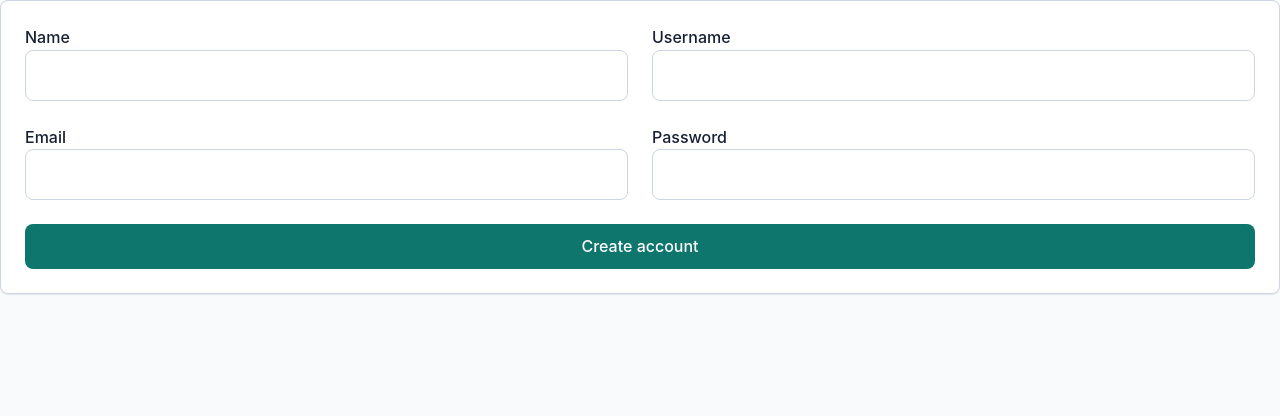
Scenario: RegistrationForm › displays server-side validation field errors
Type "Ada Lovelace" into the field labelled "Name" at (326, 75), box [25, 50, 628, 101]
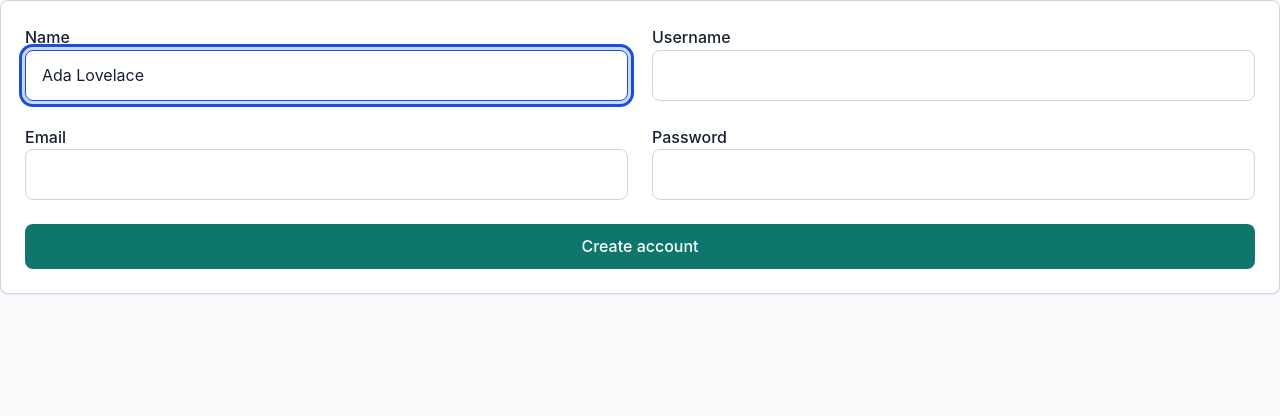
Type "ada" into the field labelled "Username" at (954, 75), box [652, 50, 1255, 101]
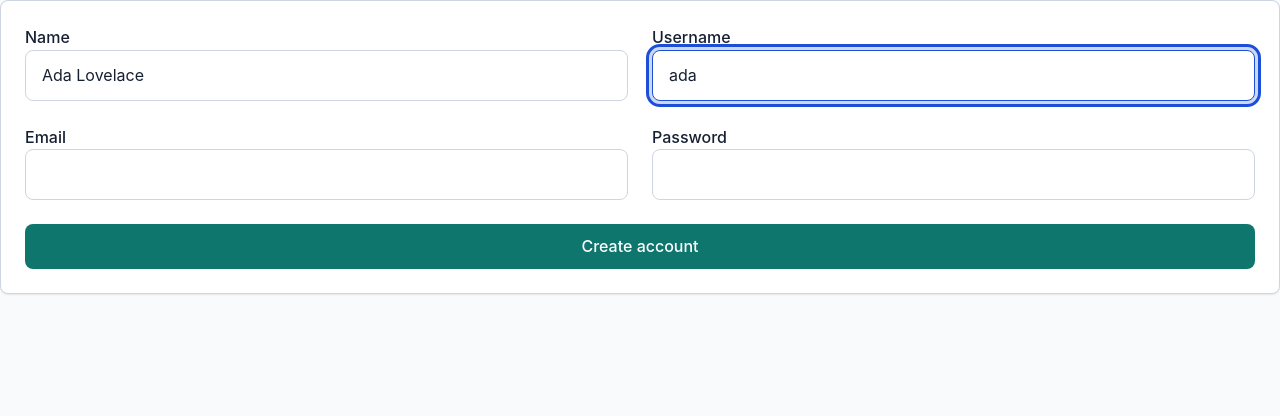
Type "ada@example.com" into the field labelled "Email" at (326, 175), box [25, 149, 628, 200]
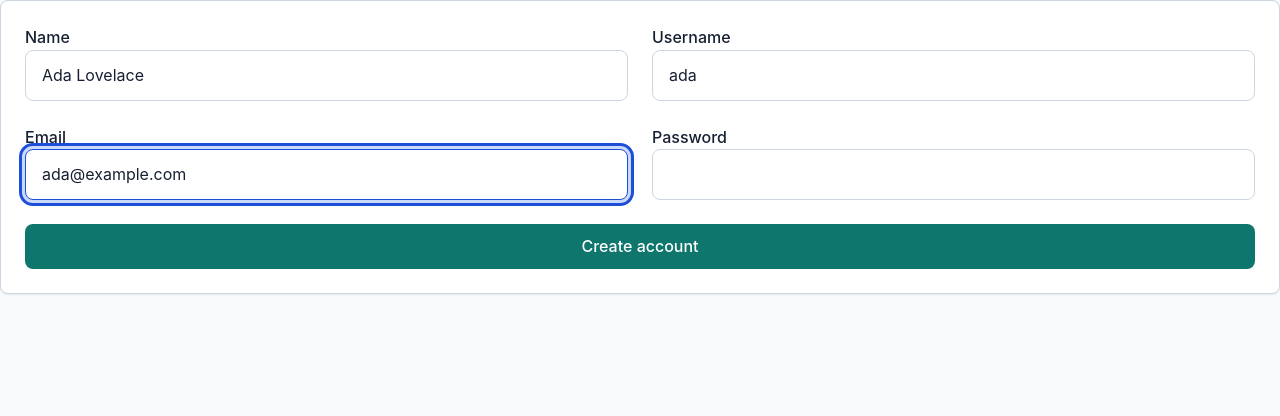
Type "correct-horse-battery-staple" into the password field labelled "Password" at (954, 175), box [652, 149, 1255, 200]
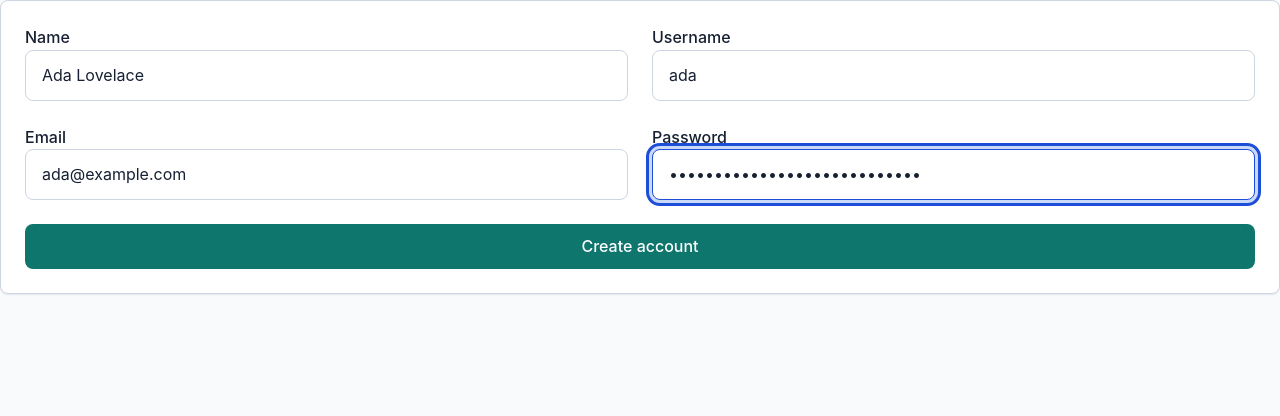
Click the button "Create account" at (640, 246), box [25, 224, 1255, 269]
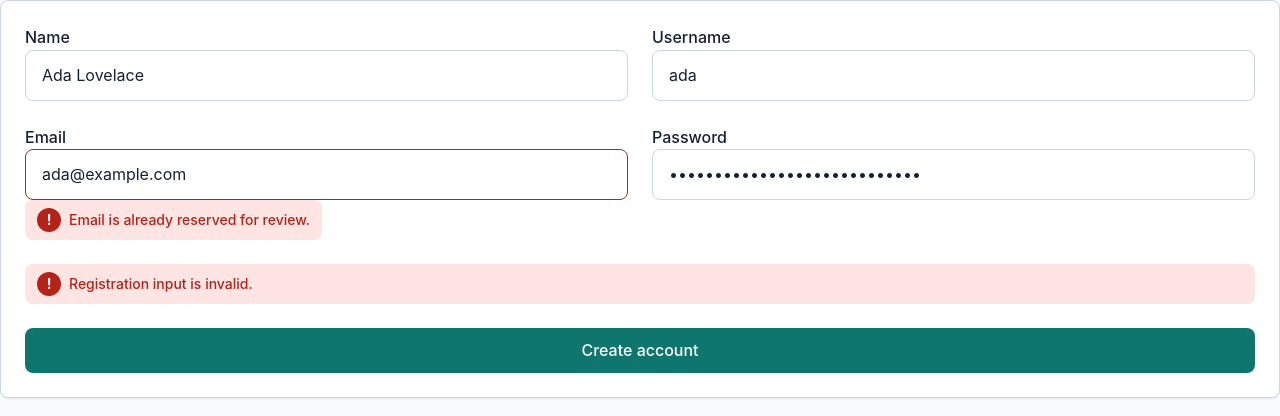
Check: the text "Registration input is invalid." is shown, box [69, 274, 253, 294]
Check: the text "Email is already reserved for review." is shown, box [69, 210, 310, 230]
